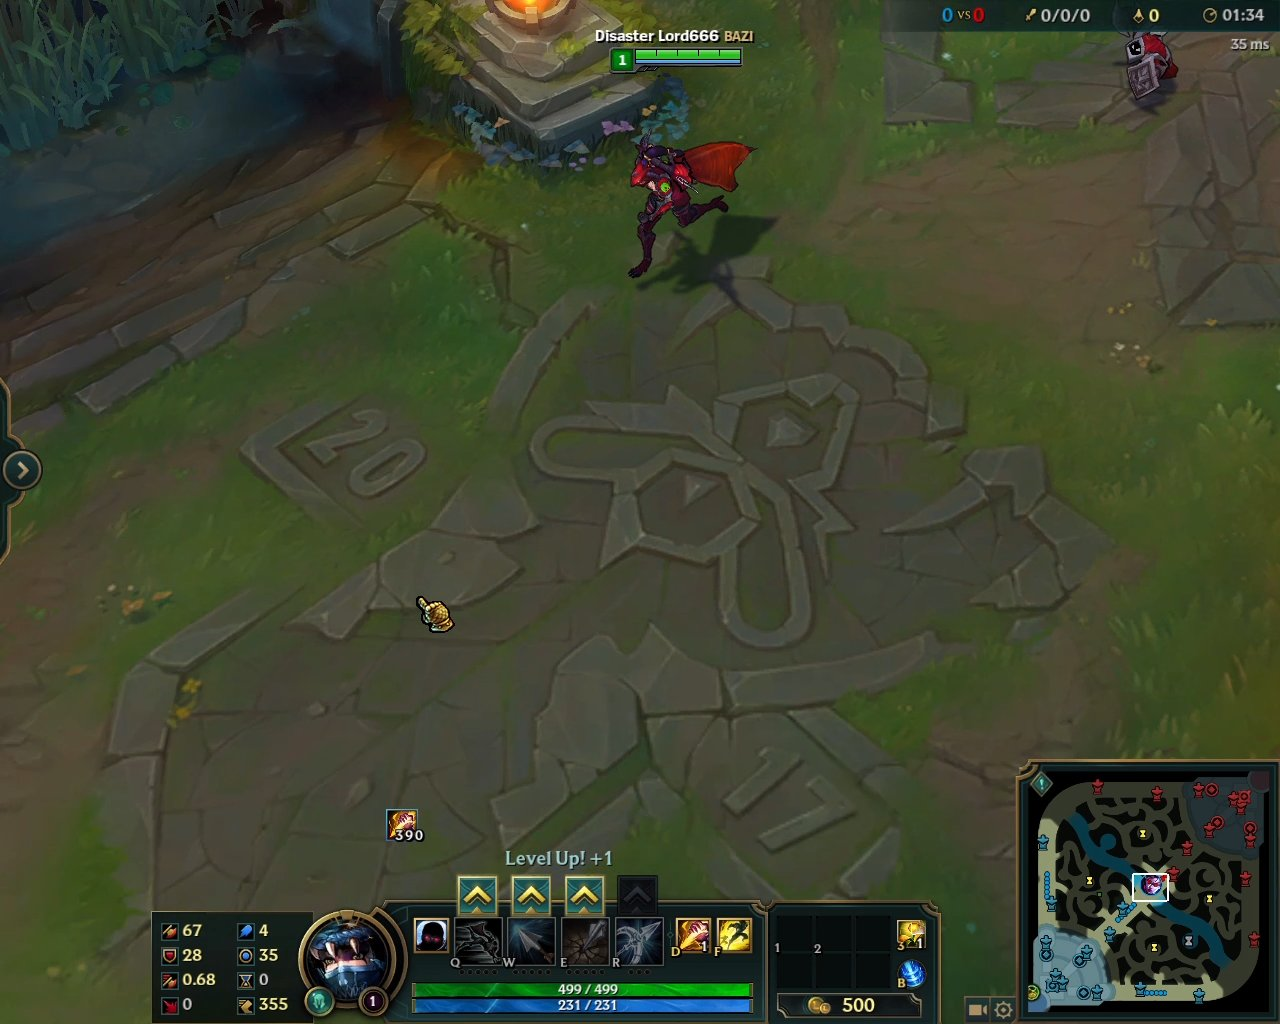EnemyMinion: (1115, 24, 1184, 102)
Vayne: (611, 132, 762, 287)
